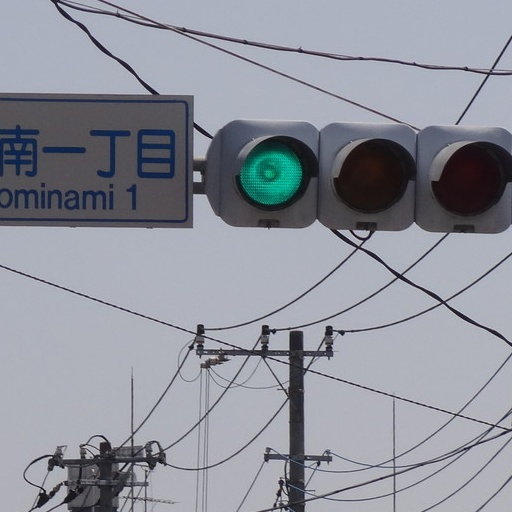Traffic_Signal_Blue: (206, 114, 504, 233)
